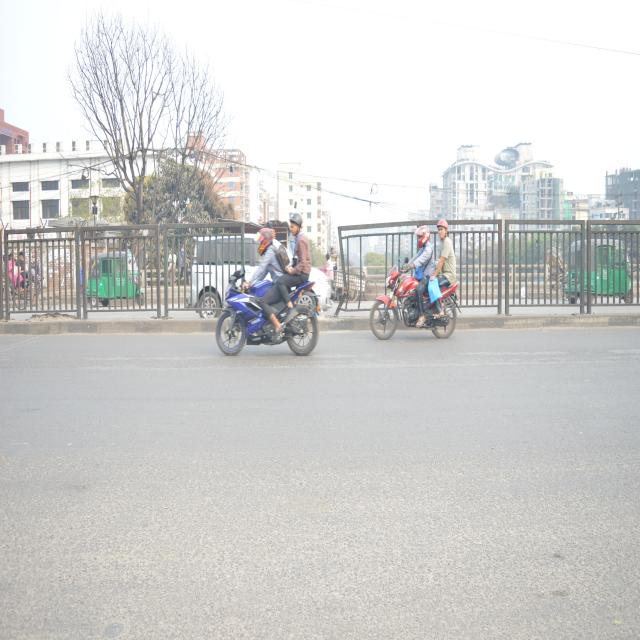motorbike: (208, 260, 331, 370), (363, 248, 475, 360)
